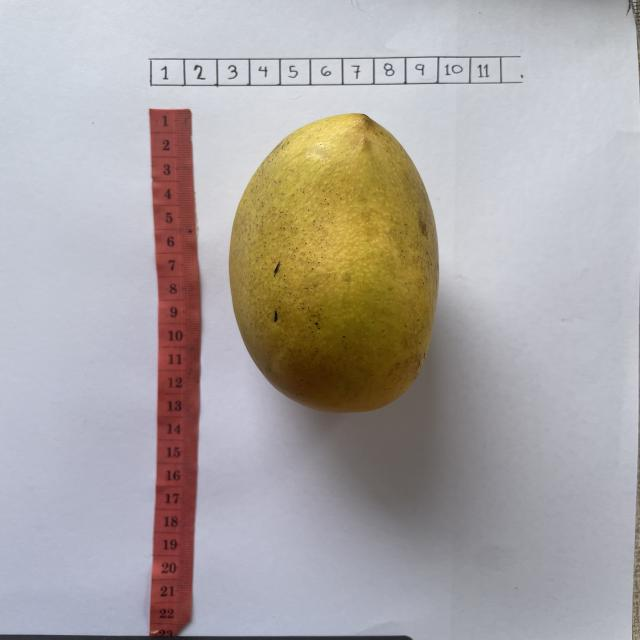Ripe: (227, 113, 441, 416)
